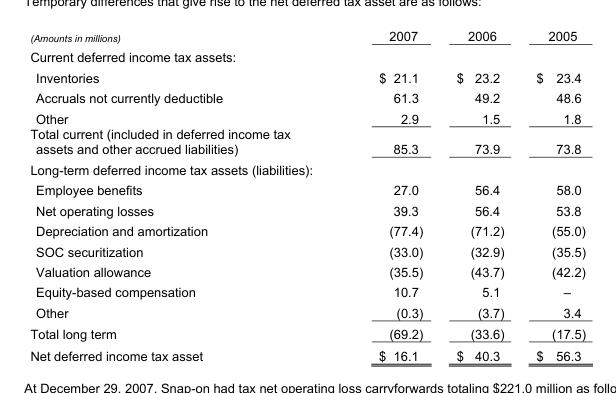table: (29, 28, 584, 362)
table column: (29, 28, 333, 362), (333, 28, 438, 362), (438, 28, 519, 362), (519, 28, 584, 362)
table column header: (29, 28, 584, 46)
table projected row header: (29, 46, 584, 67), (29, 159, 584, 179)
table row: (29, 125, 584, 159), (29, 322, 584, 344), (29, 46, 584, 67), (29, 179, 584, 200), (29, 240, 584, 261), (29, 281, 584, 302), (29, 67, 584, 87), (29, 87, 584, 107), (29, 159, 584, 179), (29, 200, 584, 220), (29, 220, 584, 240), (29, 261, 584, 281), (29, 302, 584, 322), (29, 28, 584, 46), (29, 107, 584, 125), (29, 344, 584, 362)
